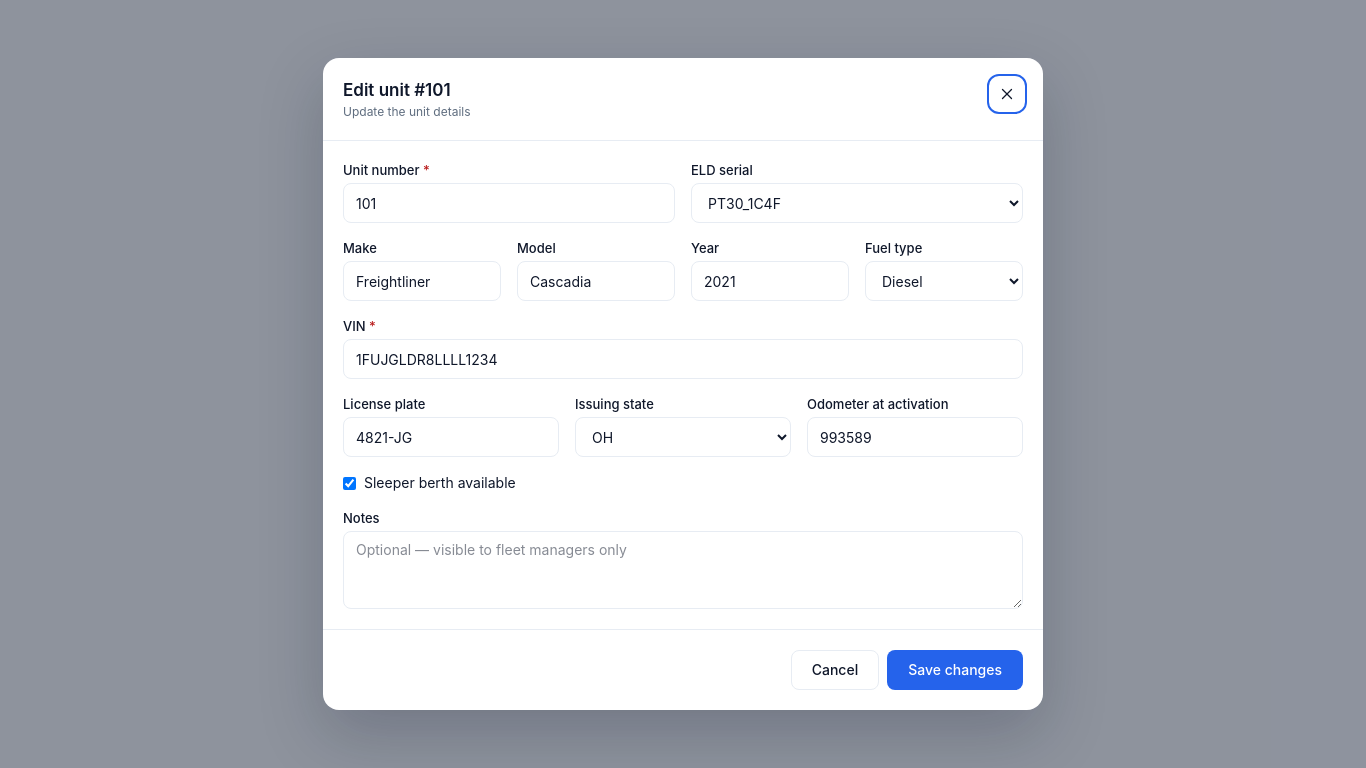
Test: 11.2 Edit unit — clearing optional fields › leaves untouched empty fields out and re-sends the paired serial unchanged
What coordinates should you click on to do the following:
click the button "Save changes"
I would click on:
 (955, 670)
Its box is x1=887 y1=650 x2=1023 y2=690.
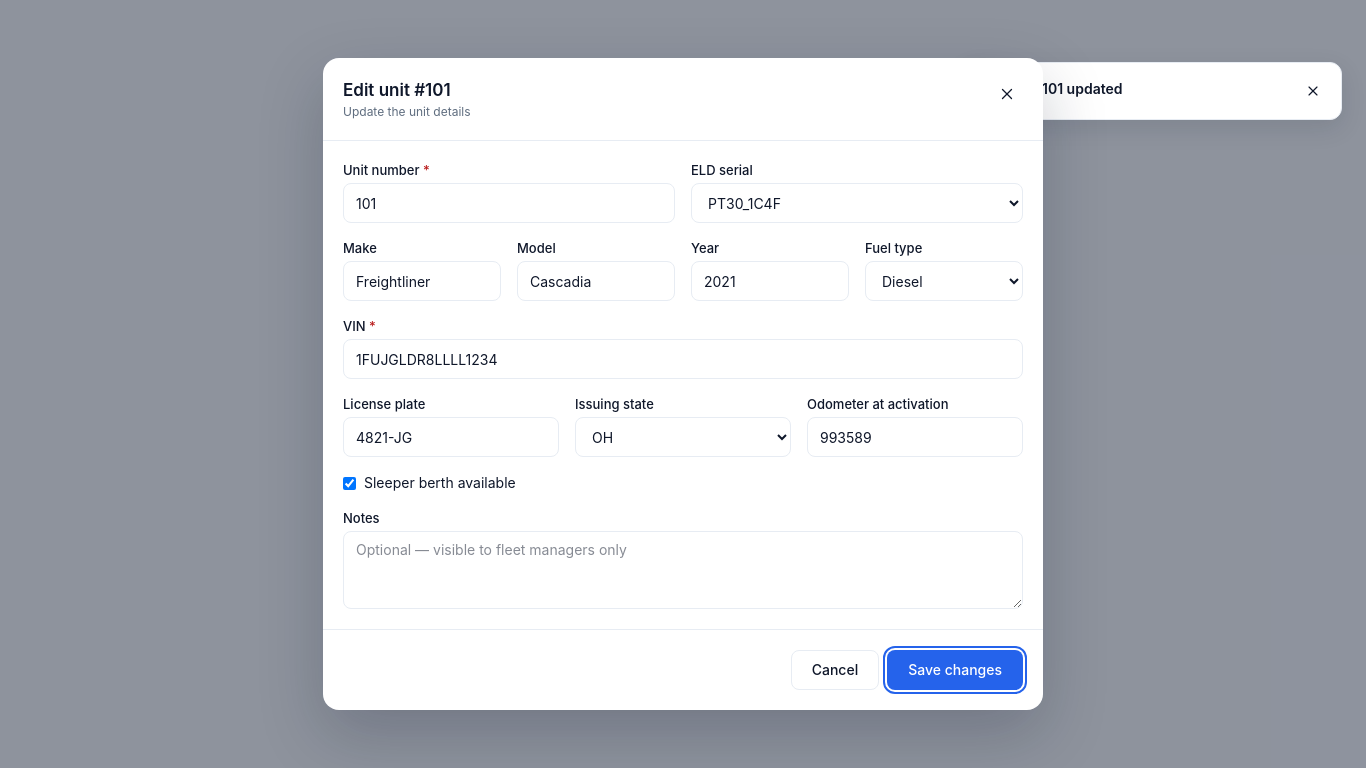
Result: the text "Unit 101 updated" is shown at x1=1011 y1=80 x2=1122 y2=97
